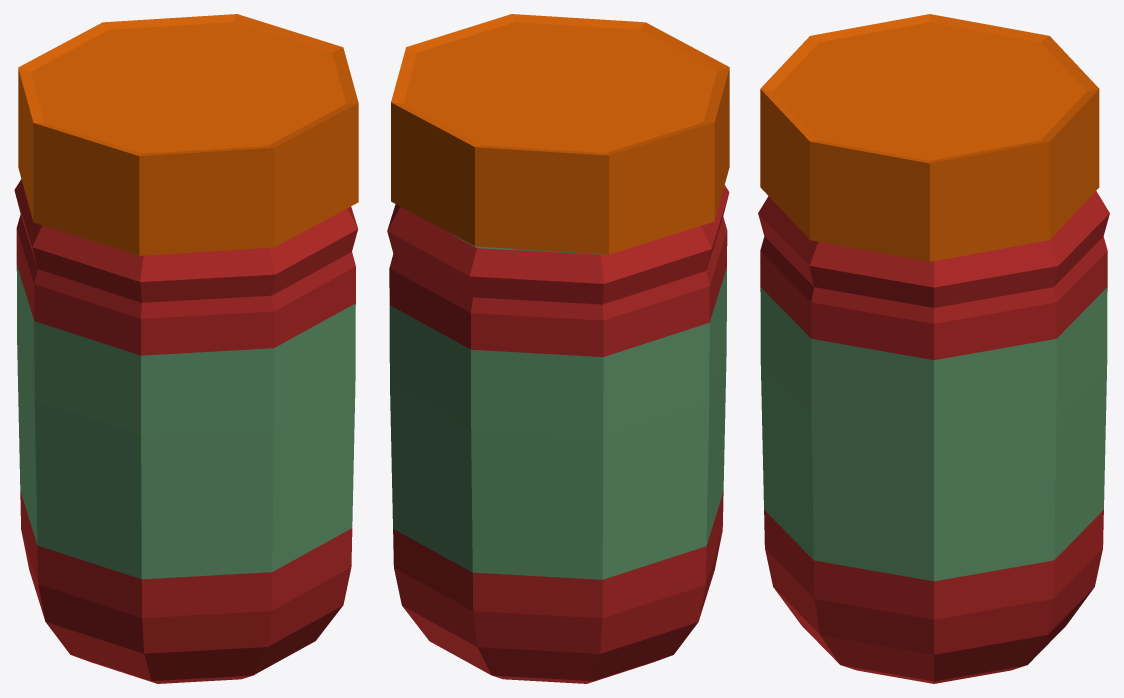
Rendered from tomato-sauce.fbx.
3 renders of one model, left to right at view 1: azimuth 30°, elevation 25°; view 2: azimuth 150°, elevation 25°; view 3: azimuth 270°, elevation 25°, orthographic.
Parts seen in each view (by area): view 1: Cylinder.002; view 2: Cylinder.002; view 3: Cylinder.002.
Part boxes in pixels (x1,y1,x2,y2): Cylinder.002: [14, 14, 358, 683]; Cylinder.002: [387, 14, 729, 683]; Cylinder.002: [758, 14, 1109, 683].
Bounding box in the file's own units: 313 × 536 × 312.
